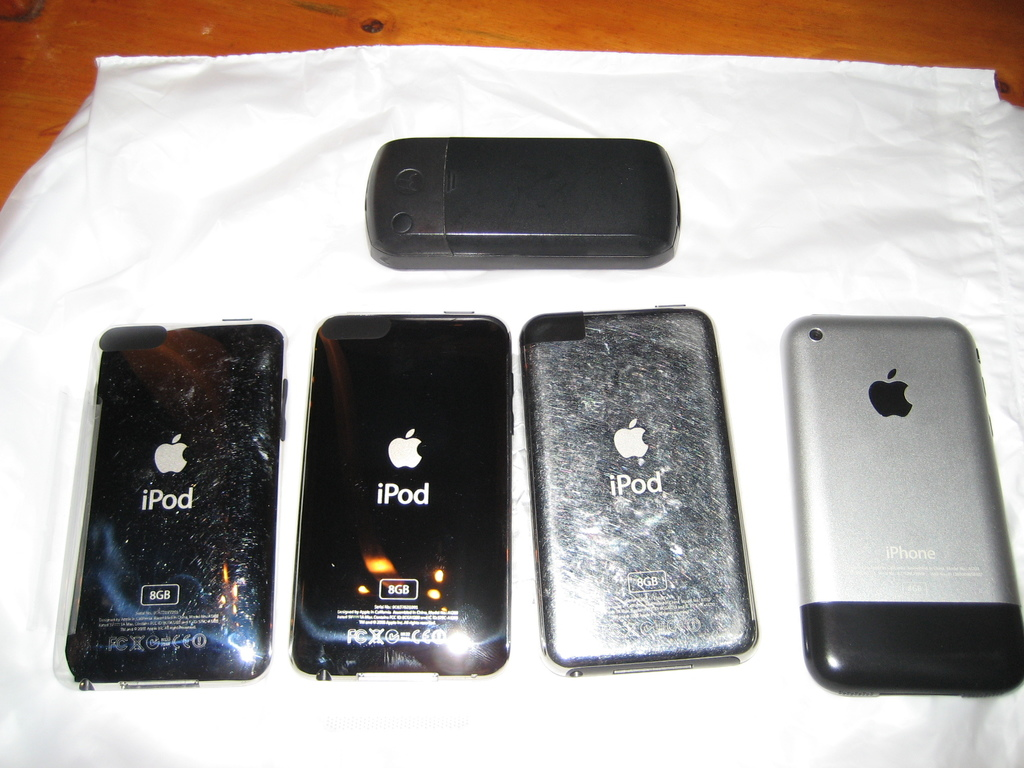mobile phone: (516, 302, 760, 678), (52, 314, 289, 691), (290, 306, 511, 679), (362, 136, 680, 269)
